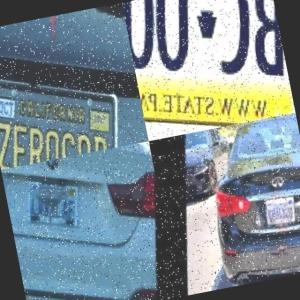Plate: (121, 0, 294, 134), (0, 47, 130, 169), (18, 169, 84, 233), (264, 195, 293, 224)
